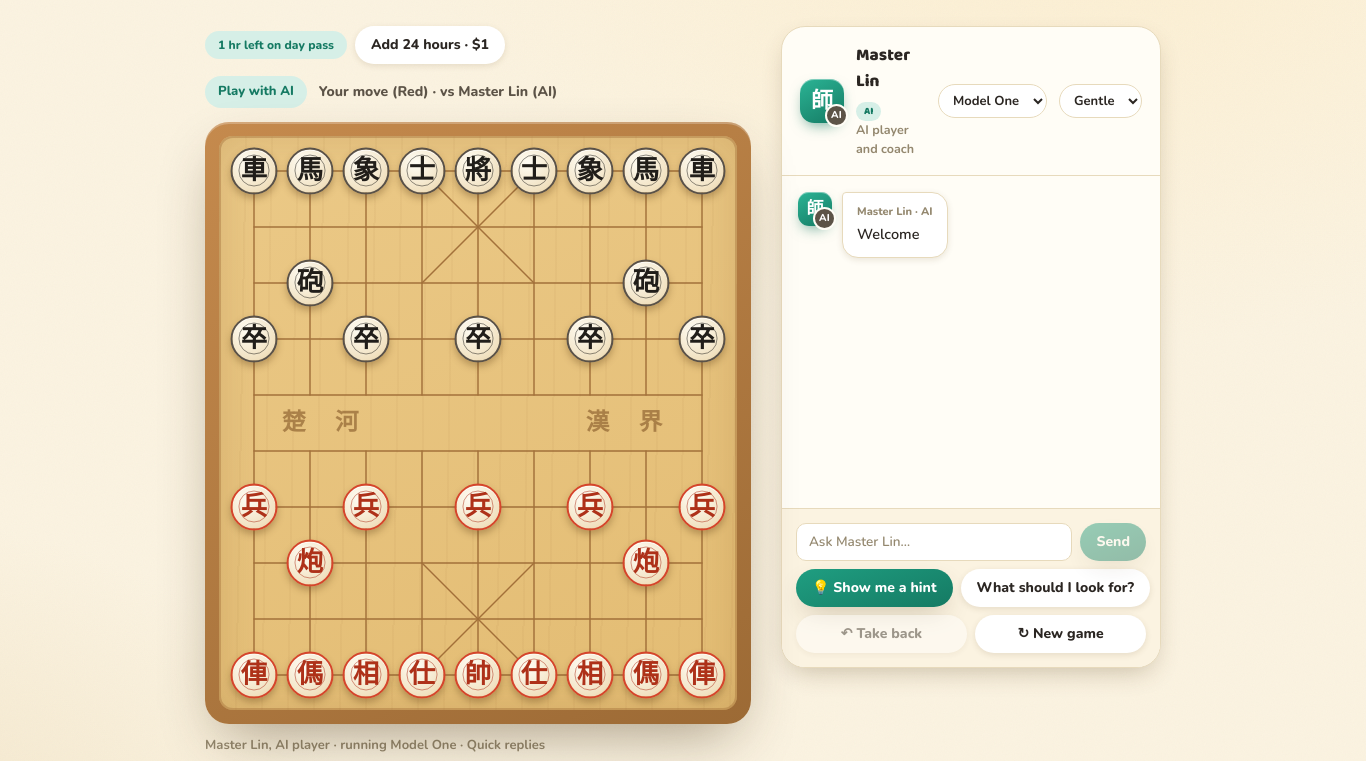
Test: PlayAiGame model UI › posts a system message when the model picker changes
Select "Model Two" in the dropdown named "AI model": {"x": 992, "y": 101} 938,84 -> 1047,118
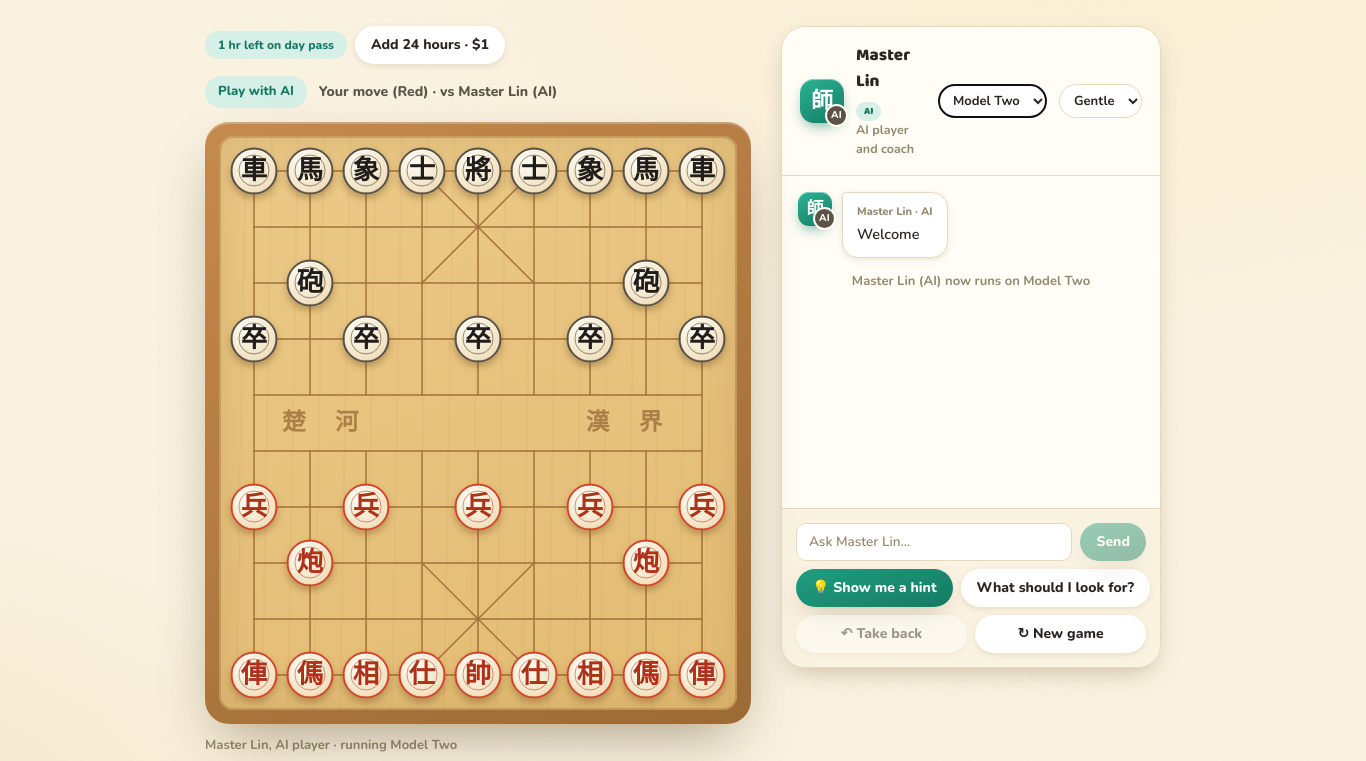
Expected: the text "Master Lin (AI) now runs on Model Two" is shown, 852,270 -> 1090,293
